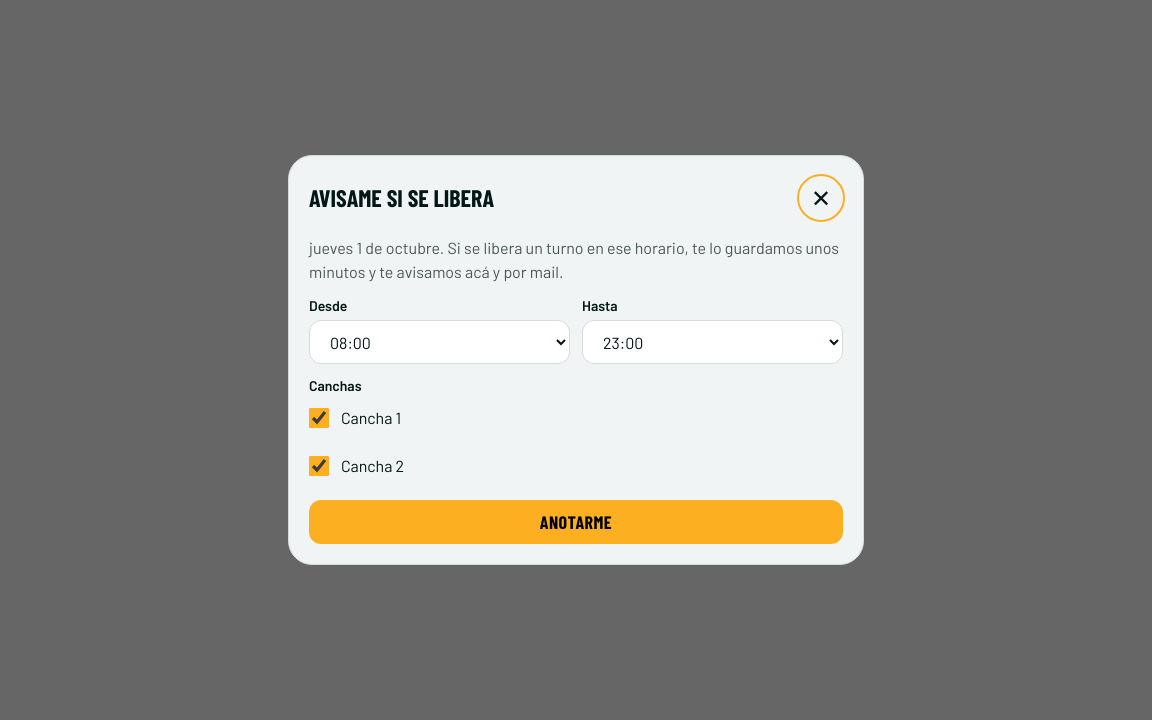
Test case: WaitSheet › asks for at least one court
Step 1. Click the checkbox labelled "Cancha 1" → (319, 418), box [309,408,329,428]
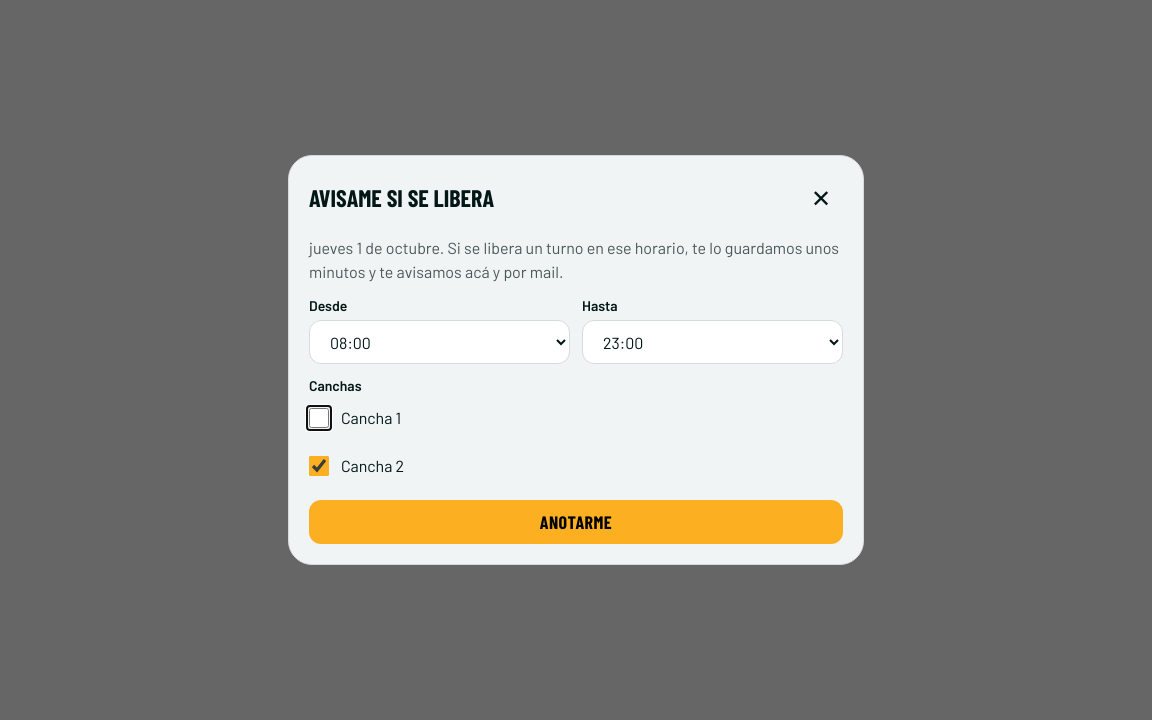
Step 2. Click the checkbox labelled "Cancha 2" → (319, 466), box [309,456,329,476]
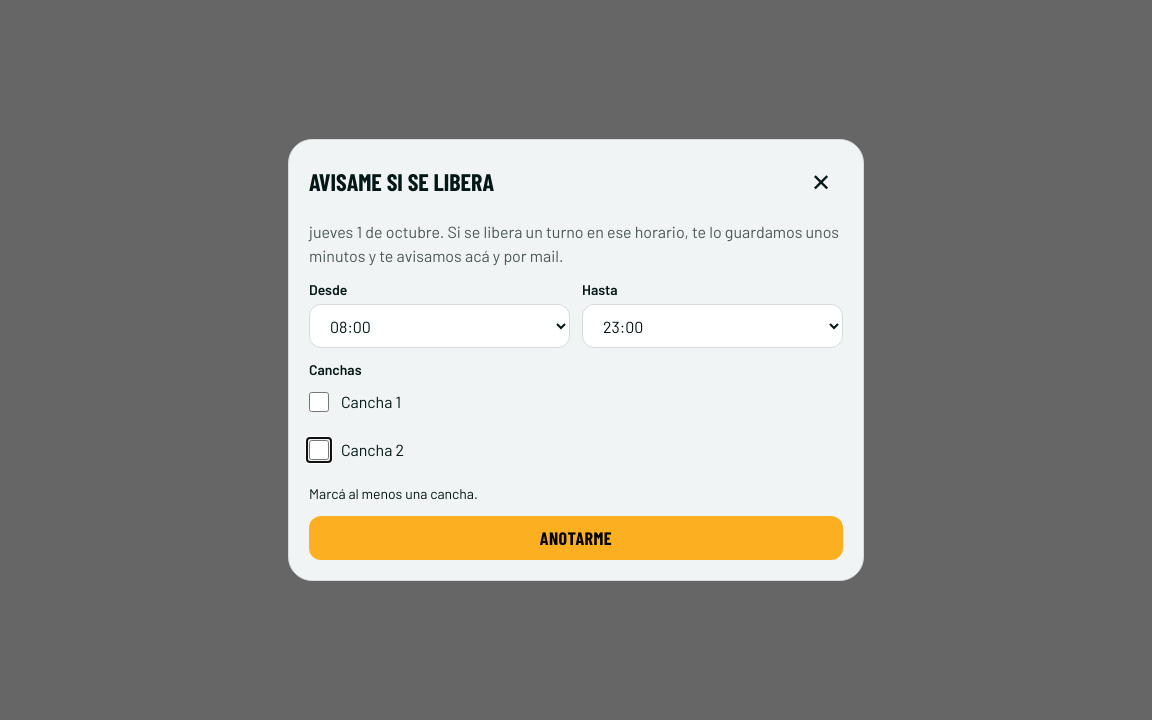
Result: the text "Marcá al menos una cancha." is shown at [309,485,478,502]
